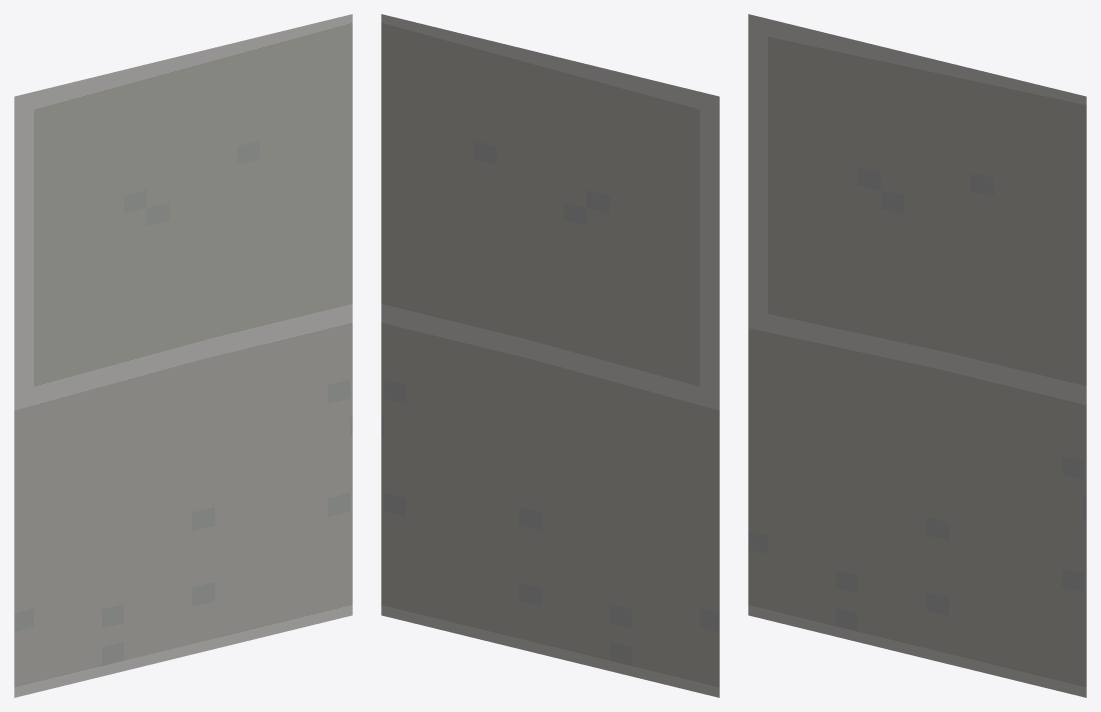
The model's file is kd_stage_135c43_3_0_bounded_piece_7.glb.
The picture shows the model from 3 angles, left to right: view 1: azimuth 30°, elevation 25°; view 2: azimuth 150°, elevation 25°; view 3: azimuth 330°, elevation 25°; orthographic projection.
Visible parts, largest first — view 1: kd_stage_135c43_3_0_bounded_piece_7; view 2: kd_stage_135c43_3_0_bounded_piece_7; view 3: kd_stage_135c43_3_0_bounded_piece_7.
Part boxes in pixels (x1,y1,x2,y2): kd_stage_135c43_3_0_bounded_piece_7: (14, 14, 352, 697); kd_stage_135c43_3_0_bounded_piece_7: (381, 14, 719, 697); kd_stage_135c43_3_0_bounded_piece_7: (748, 14, 1086, 697).
Size of the model in its own units: 0.1767 by 0.3 by 2.98e-08.
1 material, 1 textured.
